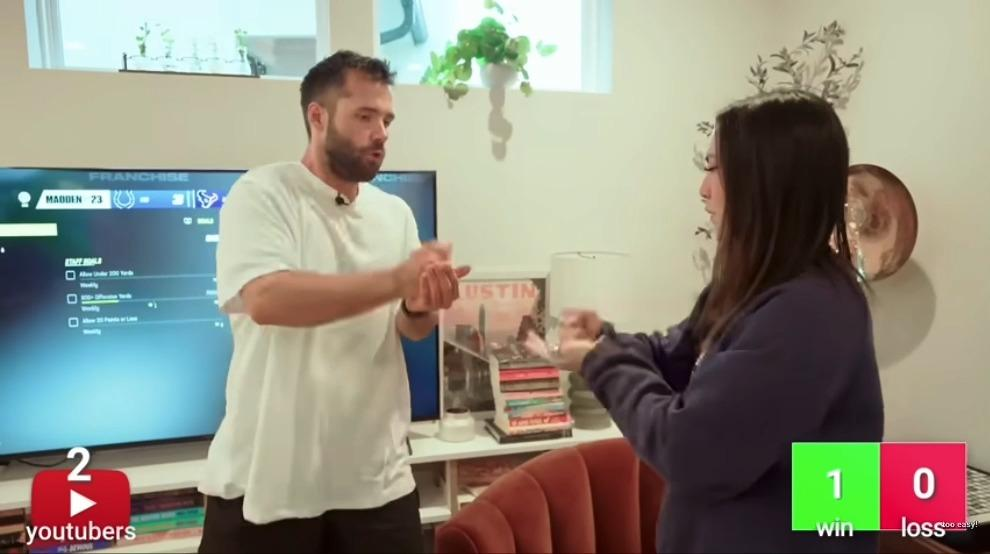Rock: (399, 239, 450, 297), (556, 304, 602, 351)
